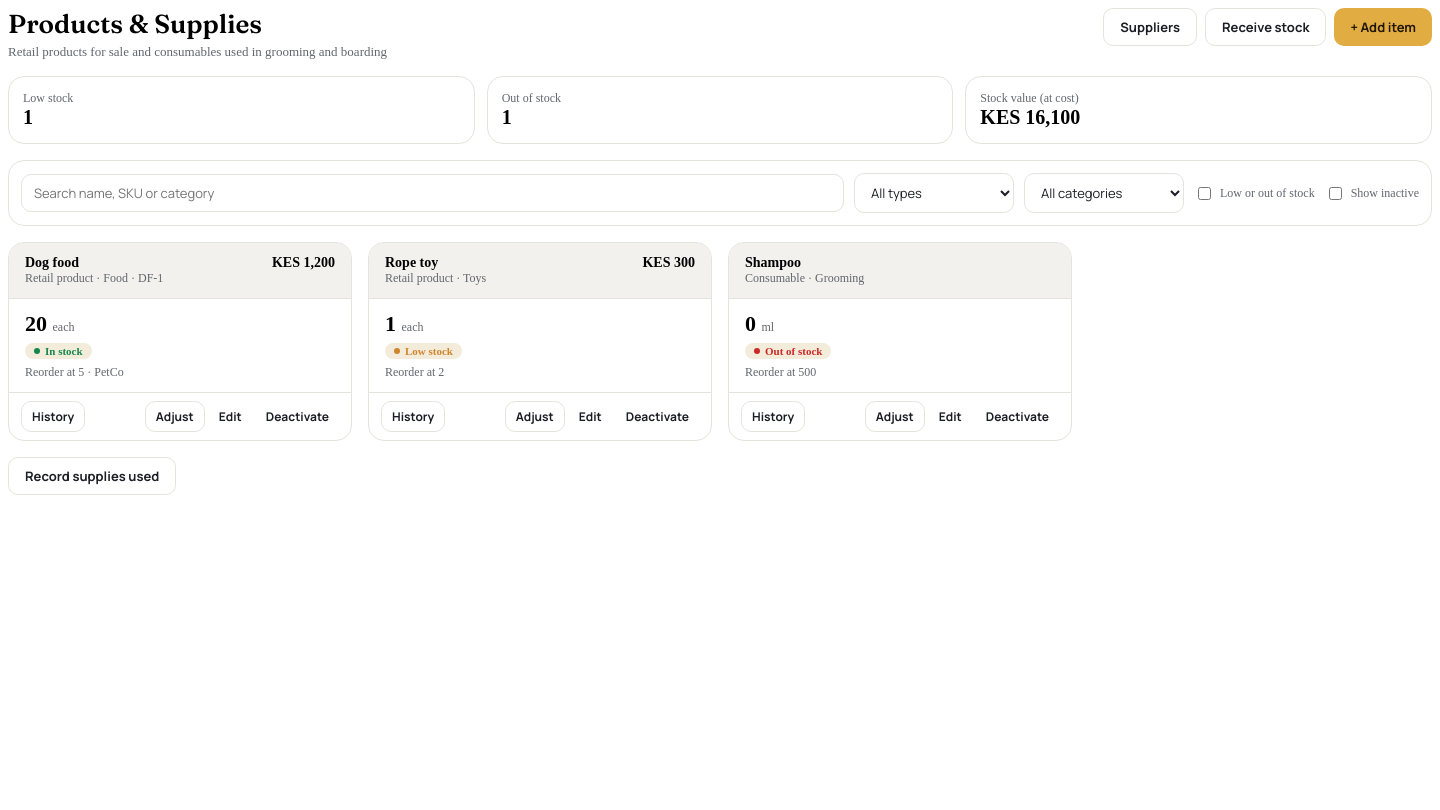
Test: SuppliesPage › shows an item's stock history
The image size is (1440, 810).
Check: the text "Dog food" is shown, box [25, 255, 79, 271]
Click the button with aria-label "History for Dog food".
click(53, 416)  # box [21, 401, 85, 432]
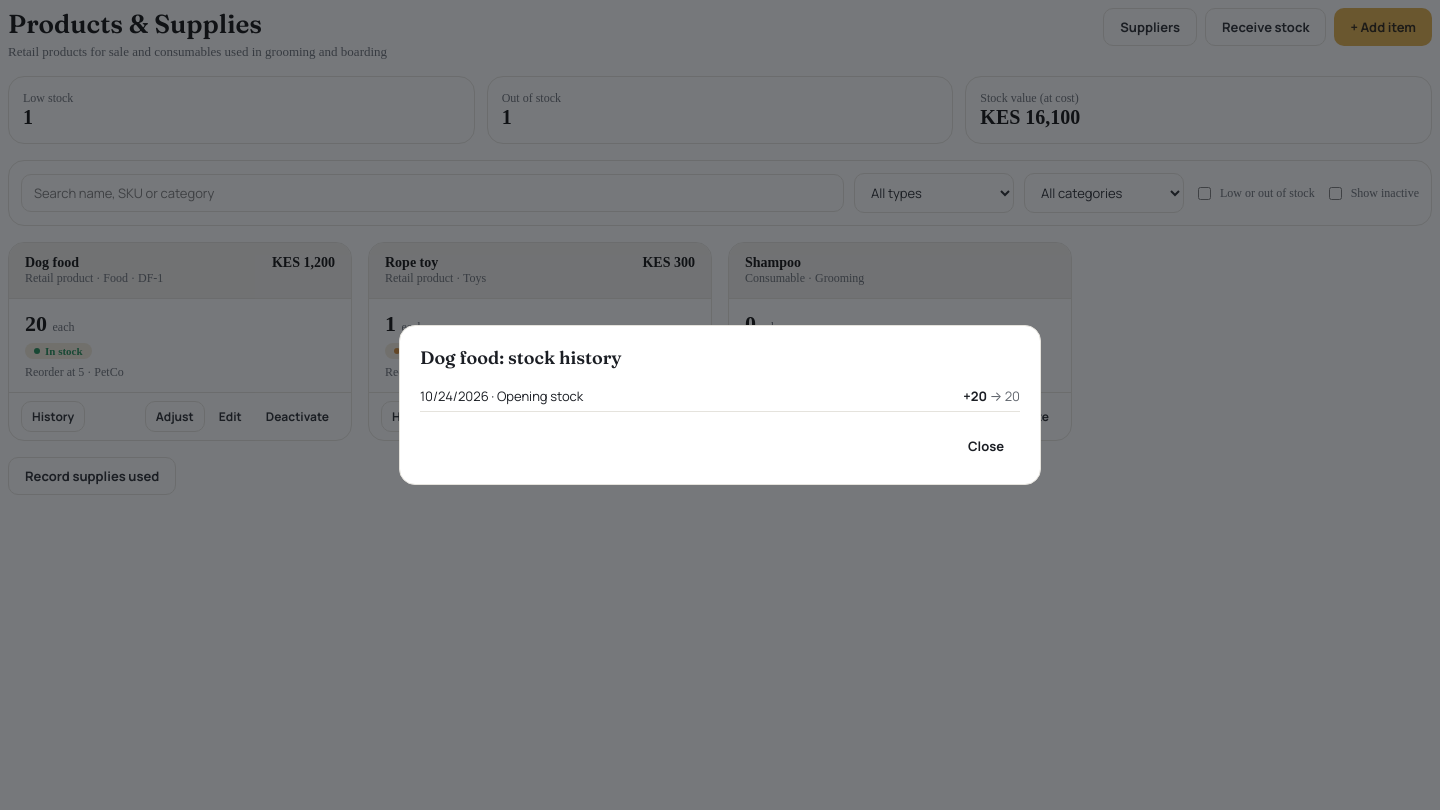
Check: the text "10/24/2026 · Opening stock" is shown, box [420, 387, 583, 405]
Check: the text "+20" is shown, box [963, 387, 987, 405]
